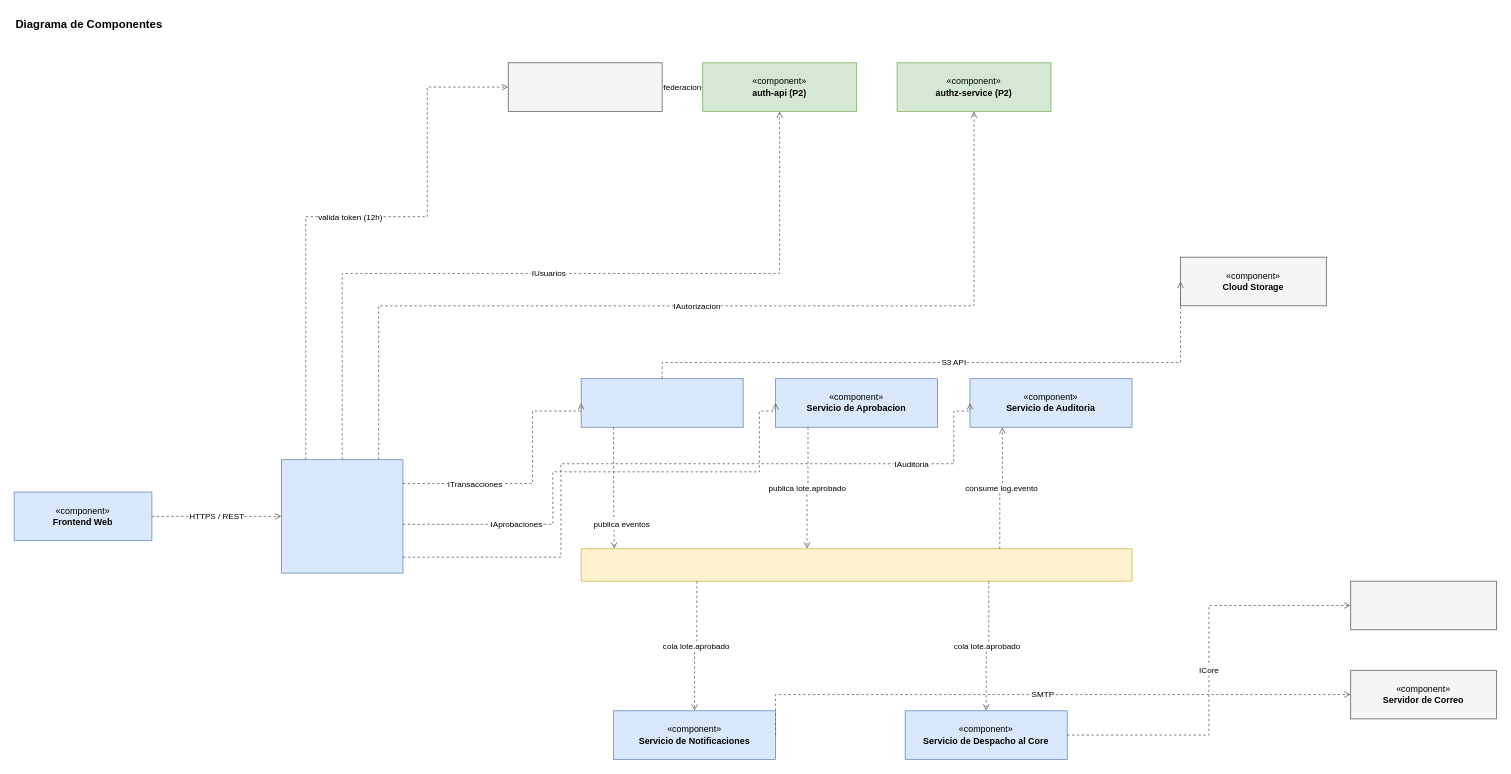
Some shapes in this 1511 by 774 pixel diagram are drawn without their labels. Each missing label, with the centre of its shape:
«component» API Gateway: pixel 342 516
«component» Broker de Mensajeria (RabbitMQ): pixel 856 564
«component» Core Bancario: pixel 1423 605
«component» OAuth Corporativo: pixel 584 86
«component» Servicio de Transacciones: pixel 661 402
